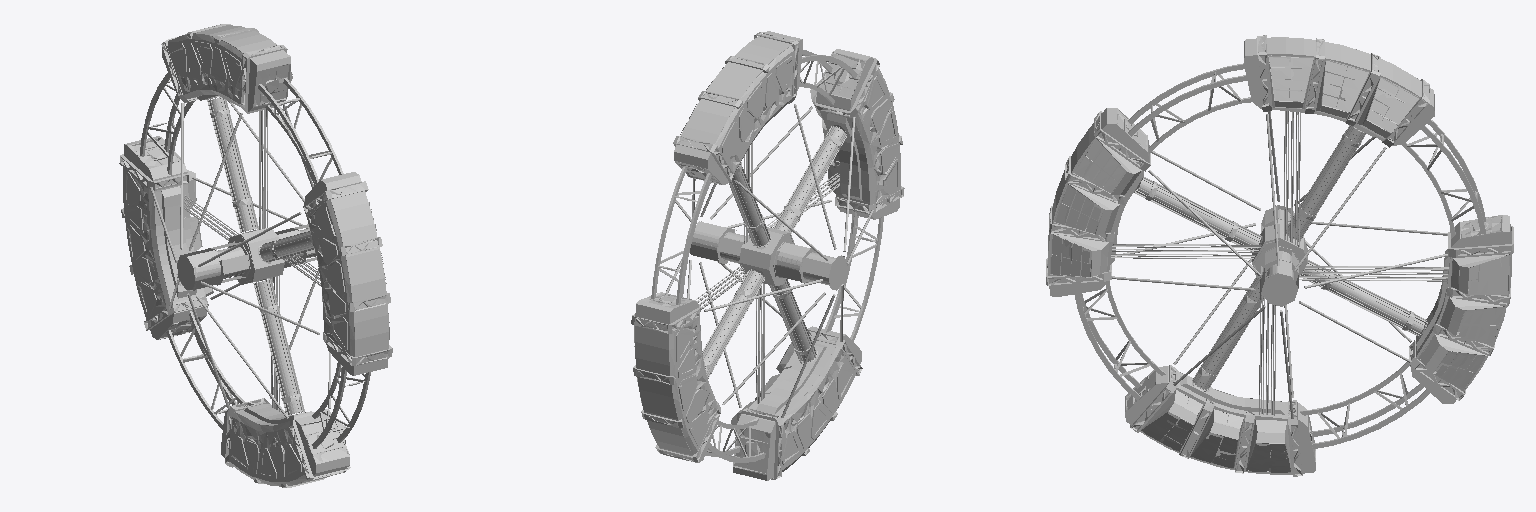
The model's file is wheel.obj.
3 views of the same model, side by side, from view 1: azimuth 30°, elevation 25°; view 2: azimuth 150°, elevation 25°; view 3: azimuth 270°, elevation 25° (orthographic).
Size of the model in its own units: 16.94 by 49.16 by 49.16.